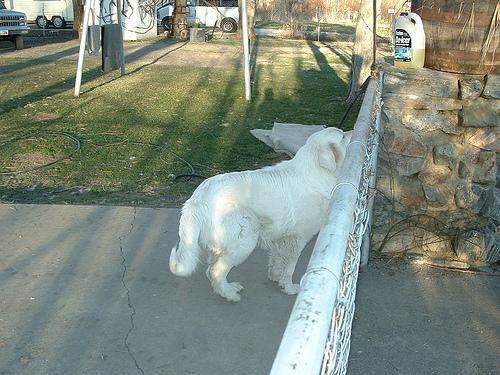Great_Pyrenees: (167, 127, 355, 303)
